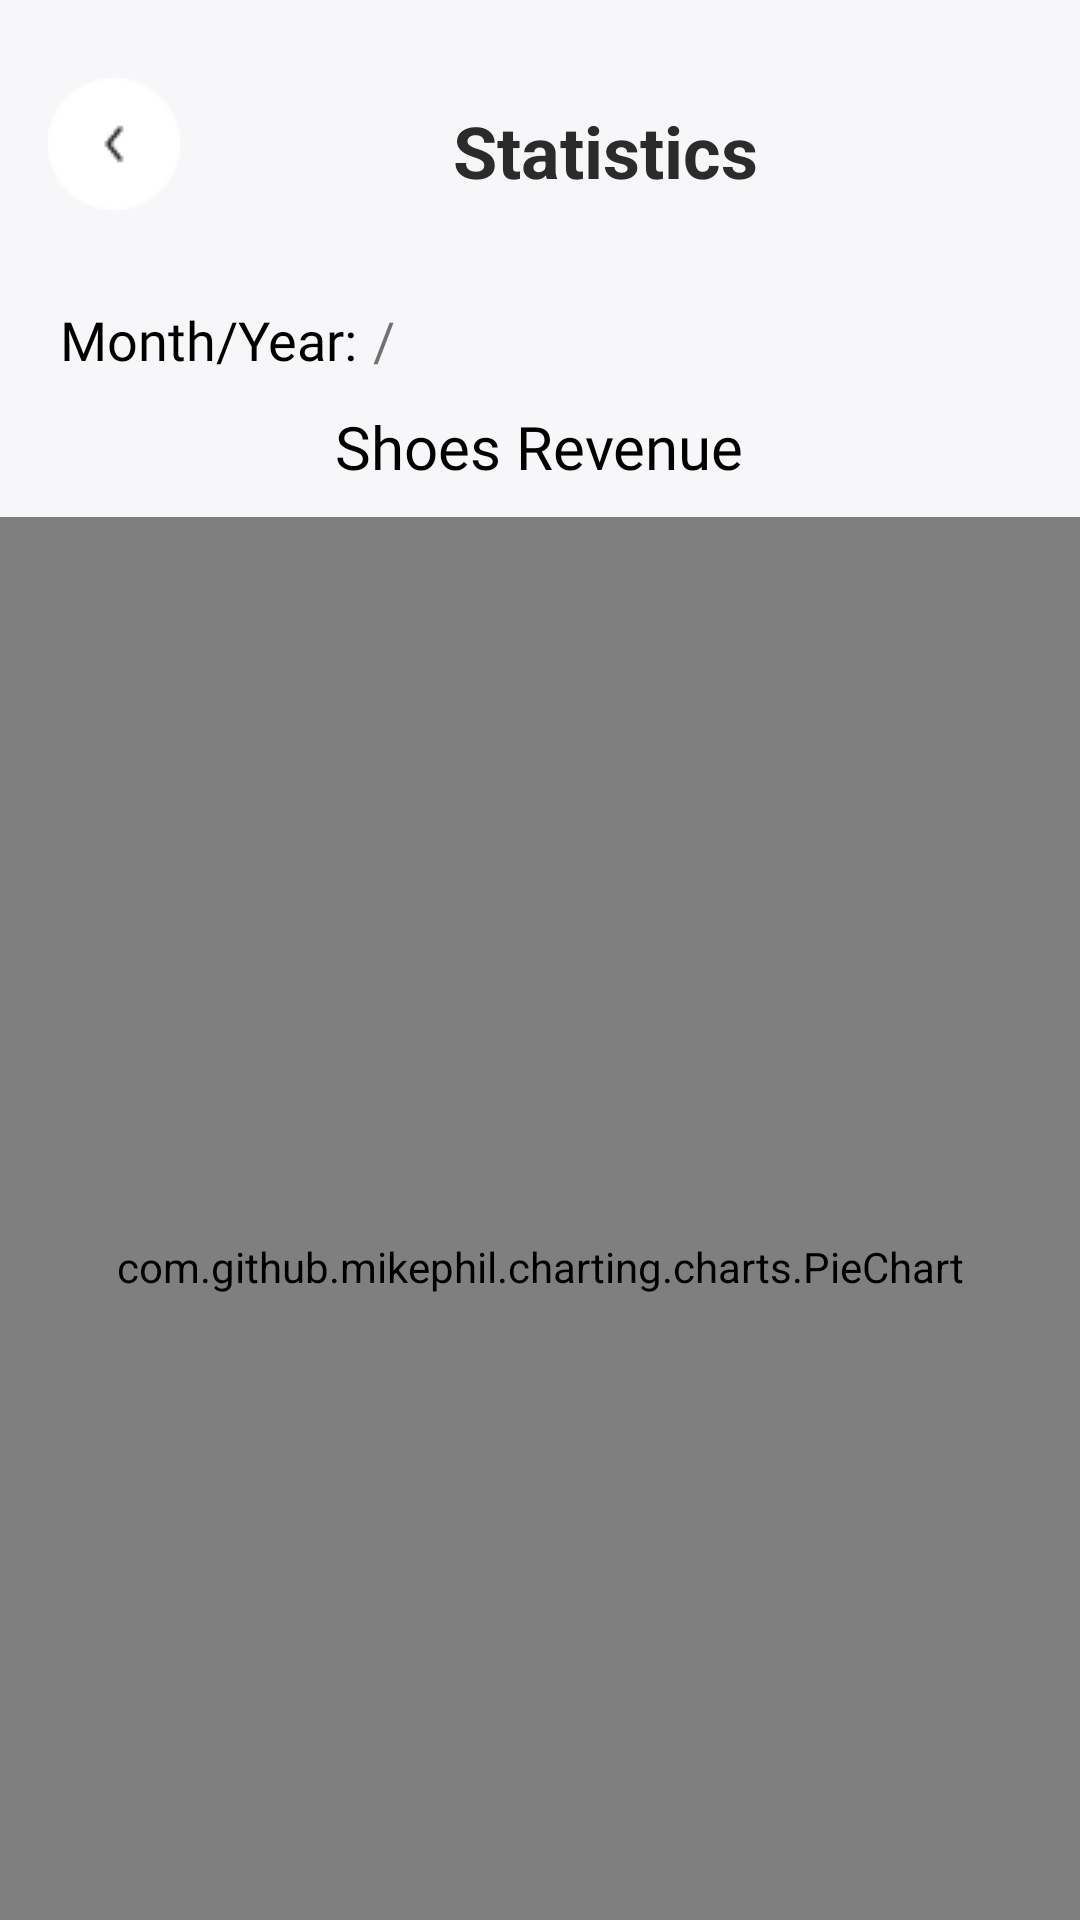

Icons on this 1080 × 1920 Android screen, each with its box as rect(x1, y1, x2, y2):
back: rect(104, 125, 124, 163)
